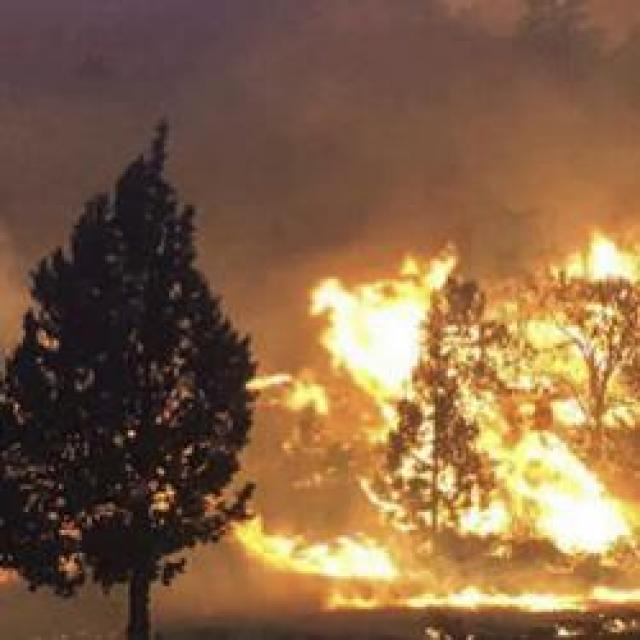fire: (491, 432, 640, 554), (309, 272, 442, 382), (265, 526, 424, 590)
